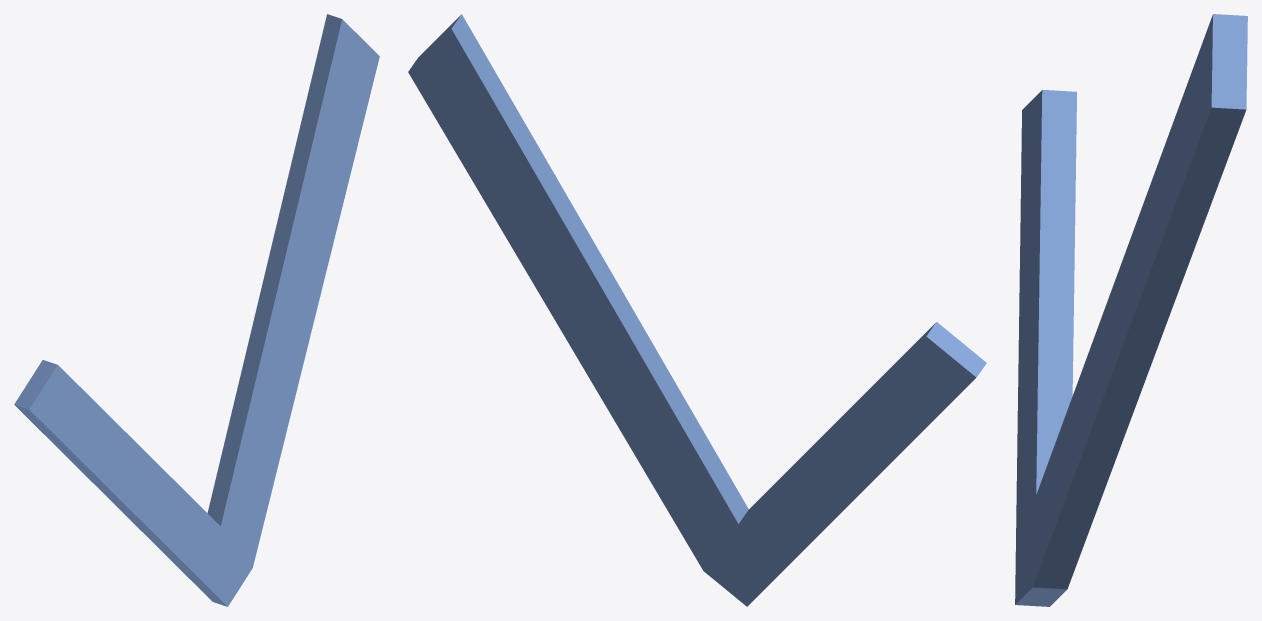
The model's file is New_Number_7.gltf.
3 renders of one model, left to right at view 1: azimuth 30°, elevation 25°; view 2: azimuth 150°, elevation 25°; view 3: azimuth 270°, elevation 25°, orthographic. The views are drawn at different scales.
Parts seen in each view (by area): view 1: Part 421; view 2: Part 421; view 3: Part 421.
Boxes of the visible parts, x1=… form: Part 421: x1=14, y1=14, x2=379, y2=606; Part 421: x1=408, y1=14, x2=986, y2=606; Part 421: x1=1015, y1=14, x2=1247, y2=606.
Bounding box in the file's own units: 0.00504 × 0.00571 × 0.00166.
